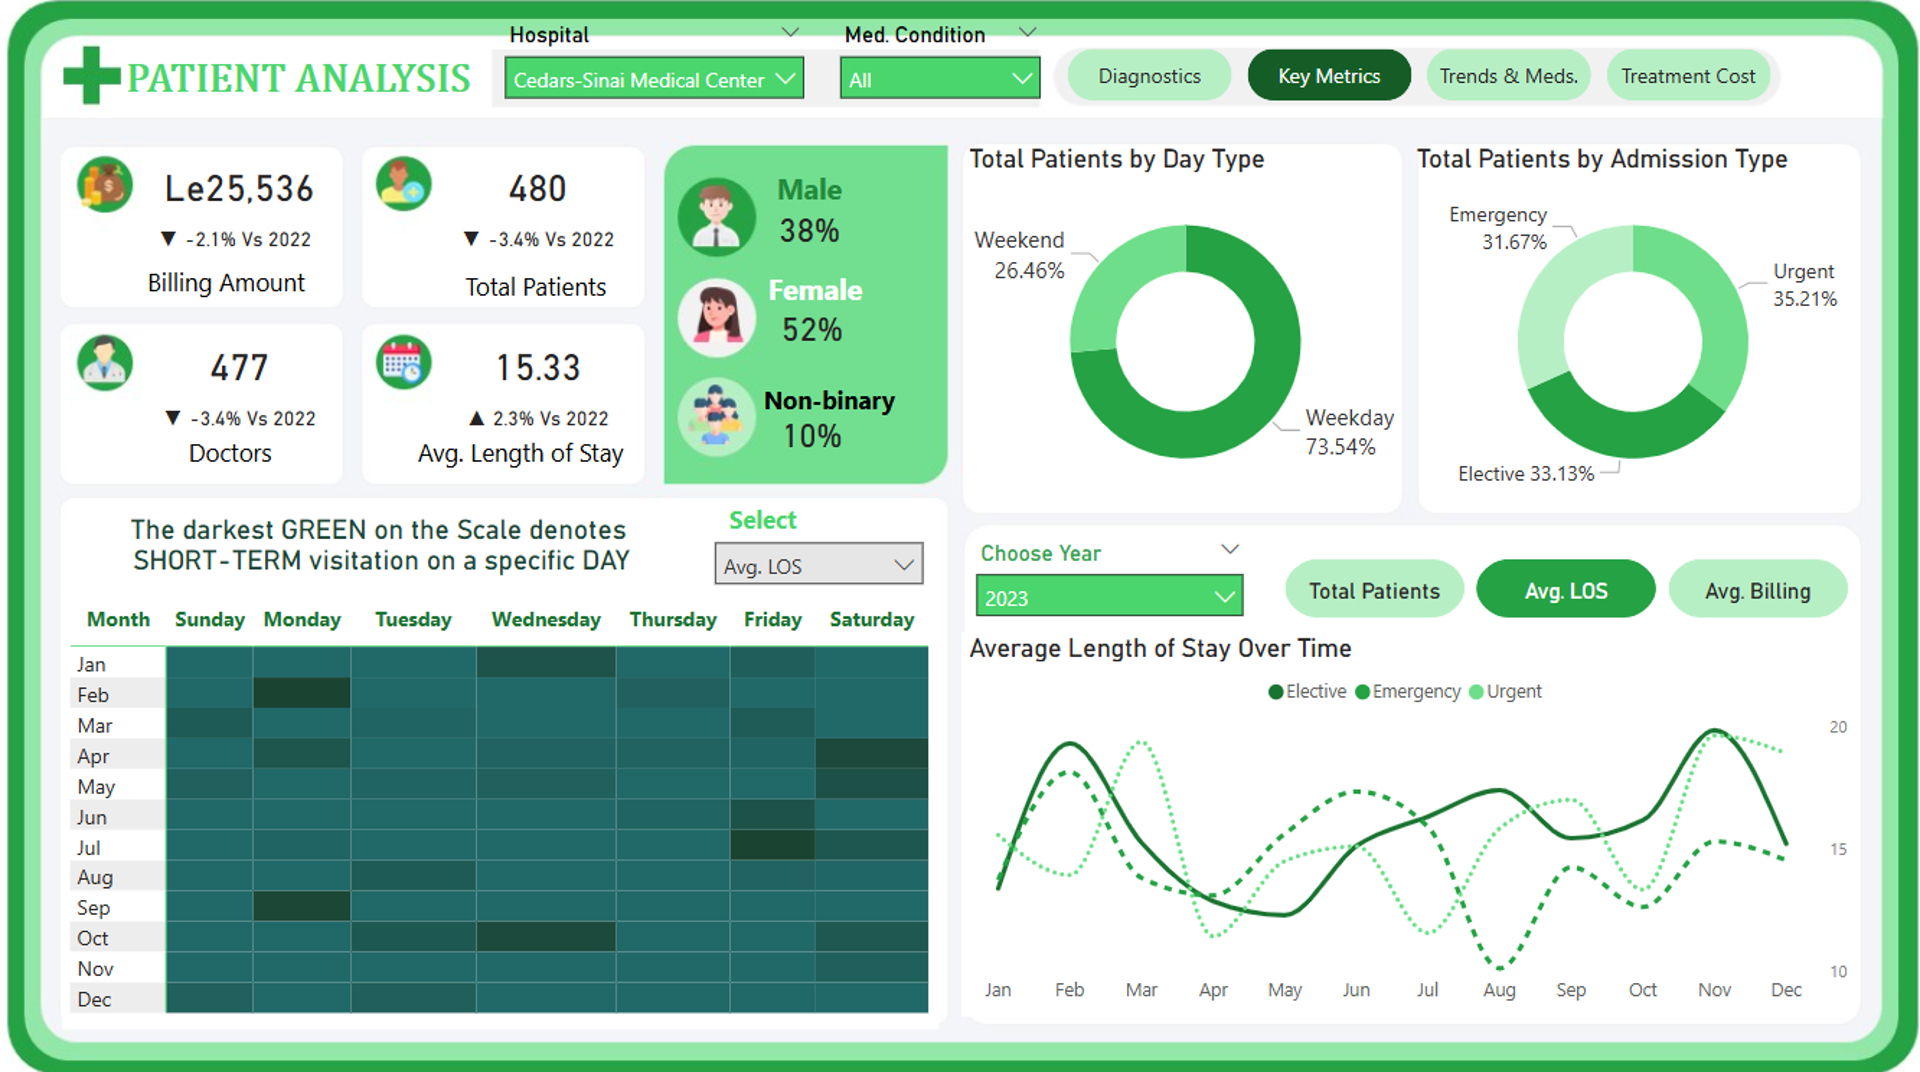

What the dashboard file says about the page in this screenshot:
{"tool":"powerbi","page":{"name":"Key Metrics","canvas":[1280,720],"ordinal":1},"visuals":[{"type":"card","fields":{"Values":["_Measures.Avg. Billing Amt"]},"box":[102.5,105.7,113.9,45.5],"z":0},{"type":"card","fields":{"Values":["_Measures.Bill YoY%"]},"box":[97.6,146.4,118.7,35.8],"z":1000},{"type":"card","fields":{"Values":["_Measures.Patient YoY%"]},"box":[300.9,146.4,113.9,35.8],"z":2000},{"type":"card","fields":{"Values":["_Measures.Total Patients"]},"box":[300.9,105.7,113.9,45.5],"z":3000},{"type":"card","fields":{"Values":["_Measures.Doctors"]},"box":[102.5,222.8,113.9,45.5],"z":4000},{"type":"card","fields":{"Values":["_Measures.Doctors YoY%"]},"box":[102.5,263.5,113.9,35.8],"z":5000},{"type":"card","fields":{"Values":["_Measures.Avg. LOS"]},"box":[300.9,222.8,113.9,45.5],"z":6000},{"type":"card","fields":{"Values":["_Measures.LOS YoY%"]},"box":[300.9,263.5,113.9,35.8],"z":7000},{"type":"card","fields":{"Values":["_Measures.% Male Visit"]},"box":[501,141.5,73.2,30.9],"z":8000},{"type":"card","fields":{"Values":["_Measures.% Female Visit"]},"box":[502.6,206.8,73.2,30.9],"z":9000},{"type":"card","fields":{"Values":["_Measures.% Non-binary Visit"]},"box":[502.6,276.5,73.2,30.9],"z":10000},{"type":"textbox","box":[510.7,112.2,79.7,35.8],"z":11000},{"type":"textbox","box":[505.9,177.5,84.6,35.8],"z":12000},{"type":"textbox","box":[502.6,252.1,109,34.2],"z":13000},{"type":"pivotTable","fields":{"Values":["_Measures.Total Patients"],"Rows":["Calendar.Month Short"],"Columns":["Calendar.Week"]},"box":[42.3,396.9,580.7,284.6],"z":14000},{"type":"lineChart","fields":{"Y":["_Measures.Total Patients"],"Category":["Calendar.Month Short"],"Series":["Health Data.Admission Type"]},"box":[639.2,421.3,592.1,252.1],"z":15000},{"type":"advancedSlicerVisual","fields":{"Values":["Trend Parameter.Trend Parameter"]},"box":[847.4,359.5,383.9,56.9],"z":16000},{"type":"slicer","fields":{"Values":["Calendar.Year"]},"box":[639.2,354.6,196.8,56.9],"z":17000},{"type":"slicer","fields":{"Values":["Heatmap Parameter.Heatmap Parameter"]},"box":[465.2,353,157.8,45.5],"z":18000},{"type":"card","fields":{"Values":["_Measures.HitMap Caption"]},"box":[42.3,331.8,422.9,63.4],"z":19000},{"type":"textbox","box":[479.8,330.2,94.3,37.4],"z":20000},{"type":"textbox","box":[94.3,174,146.4,37.4],"z":21000},{"type":"textbox","box":[305.8,177.3,115.5,37.4],"z":22000},{"type":"textbox","box":[122,286.3,81.3,37.4],"z":23000},{"type":"textbox","box":[273.3,286.3,167.5,37.4],"z":24000},{"type":"textbox","box":[79.7,39,250.5,45.5],"z":25000},{"type":"slicer","fields":{"Values":["Health Data.Hospital"]},"box":[326.9,16.3,218,56.9],"z":26000},{"type":"slicer","fields":{"Values":["Medical Condition.Medical Condition"]},"box":[548.1,16.3,152.9,56.9],"z":27000},{"type":"donutChart","fields":{"Y":["_Measures.Total Patients"],"Category":["Calendar.Day Type","Health Data.Admission Type"]},"box":[639.5,100.8,296.1,241],"z":28000},{"type":"donutChart","fields":{"Y":["_Measures.Total Patients"],"Category":["Health Data.Admission Type","Health Data.Medication"]},"box":[935.6,100.8,296.1,241],"z":29000},{"type":"pageNavigator","box":[709.2,39,466.8,34.2],"z":30000}]}

Visuals, with their boxes in screenshot pixels (x1, y1, x2, y2), scaled from the page's 1280x720 canvas onto the 1920x1072 screenshot:
card - _Measures.Avg. Billing Amt: left=154, top=157, right=325, bottom=225
card - _Measures.Bill YoY%: left=146, top=218, right=324, bottom=271
card - _Measures.Patient YoY%: left=451, top=218, right=622, bottom=271
card - _Measures.Total Patients: left=451, top=157, right=622, bottom=225
card - _Measures.Doctors: left=154, top=332, right=325, bottom=399
card - _Measures.Doctors YoY%: left=154, top=392, right=325, bottom=446
card - _Measures.Avg. LOS: left=451, top=332, right=622, bottom=399
card - _Measures.LOS YoY%: left=451, top=392, right=622, bottom=446
card - _Measures.% Male Visit: left=752, top=211, right=861, bottom=257
card - _Measures.% Female Visit: left=754, top=308, right=864, bottom=354
card - _Measures.% Non-binary Visit: left=754, top=412, right=864, bottom=458
textbox: left=766, top=167, right=886, bottom=220
textbox: left=759, top=264, right=886, bottom=318
textbox: left=754, top=375, right=917, bottom=426
pivotTable - _Measures.Total Patients x Calendar.Month Short: left=63, top=591, right=934, bottom=1015
lineChart - _Measures.Total Patients x Calendar.Month Short: left=959, top=627, right=1847, bottom=1003
advancedSlicerVisual - Trend Parameter.Trend Parameter: left=1271, top=535, right=1847, bottom=620
slicer - Calendar.Year: left=959, top=528, right=1254, bottom=613
slicer - Heatmap Parameter.Heatmap Parameter: left=698, top=526, right=934, bottom=593
card - _Measures.HitMap Caption: left=63, top=494, right=698, bottom=588
textbox: left=720, top=492, right=861, bottom=547
textbox: left=141, top=259, right=361, bottom=315
textbox: left=459, top=264, right=632, bottom=320
textbox: left=183, top=426, right=305, bottom=482
textbox: left=410, top=426, right=661, bottom=482
textbox: left=120, top=58, right=495, bottom=126
slicer - Health Data.Hospital: left=490, top=24, right=817, bottom=109
slicer - Medical Condition.Medical Condition: left=822, top=24, right=1052, bottom=109
donutChart - _Measures.Total Patients x Calendar.Day Type: left=959, top=150, right=1403, bottom=509
donutChart - _Measures.Total Patients x Health Data.Admission Type: left=1403, top=150, right=1848, bottom=509
pageNavigator: left=1064, top=58, right=1764, bottom=109
